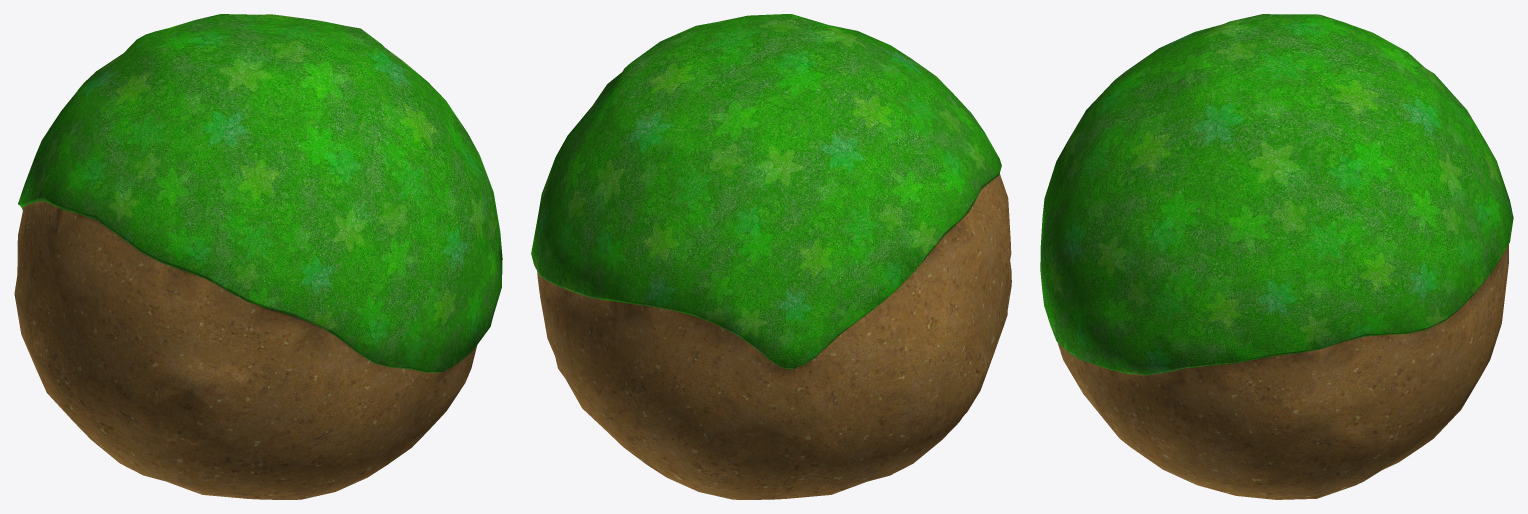
Rendered from HikeGardenPlanet.fbx.
The picture shows the model from 3 angles, left to right: view 1: azimuth 30°, elevation 25°; view 2: azimuth 150°, elevation 25°; view 3: azimuth 270°, elevation 25°; orthographic projection.
Parts seen in each view (by area): view 1: mesh-1.001, mesh-1; view 2: mesh-1.001, mesh-1; view 3: mesh-1.001, mesh-1.
Part boxes in pixels (x1=…): mesh-1.001: x1=18, y1=14, x2=502, y2=372; mesh-1: x1=14, y1=201, x2=477, y2=499; mesh-1.001: x1=531, y1=14, x2=1001, y2=368; mesh-1: x1=537, y1=173, x2=1011, y2=499; mesh-1.001: x1=1040, y1=14, x2=1513, y2=375; mesh-1: x1=1058, y1=244, x2=1508, y2=499.
Size of the model in its own units: 148869 by 146881 by 147944.
2 materials, 2 textured.
